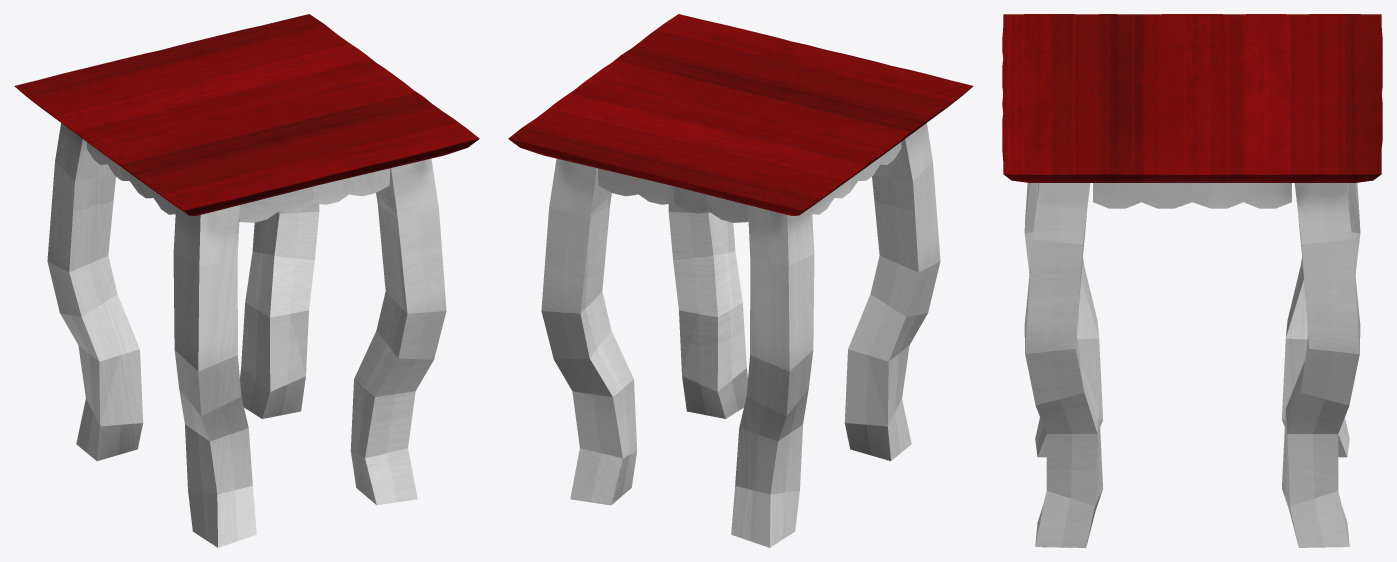
File: mesinhya.fbx
The picture shows the model from 3 angles, left to right: view 1: azimuth 30°, elevation 25°; view 2: azimuth 150°, elevation 25°; view 3: azimuth 270°, elevation 25°; orthographic projection. The views are drawn at different scales.
Parts seen in each view (by area): view 1: Mesinha; view 2: Mesinha; view 3: Mesinha.
Boxes of the visible parts, x1,y1,x2,y2 form: Mesinha: (14, 14, 479, 547); Mesinha: (508, 14, 973, 547); Mesinha: (1002, 14, 1382, 547).
Bounding box in the file's own units: 200 × 231 × 200.
1 material, 1 textured.
